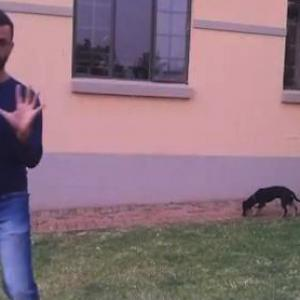follow_hand: (1, 78, 49, 137)
